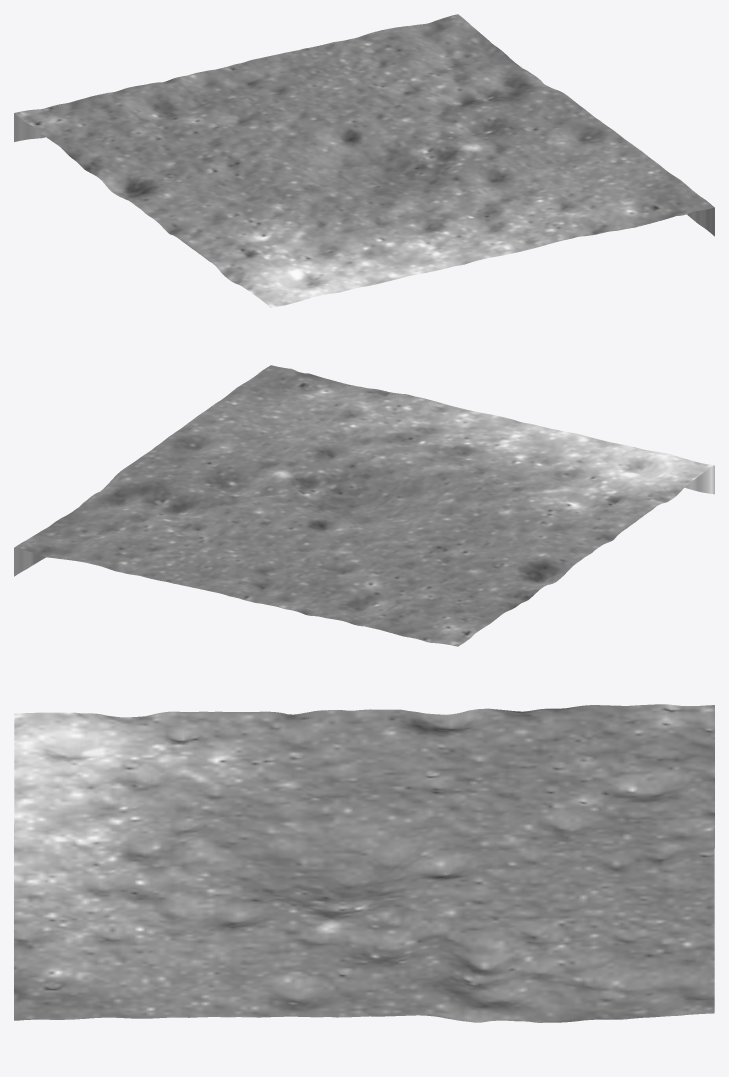
The picture shows the model from 3 angles, top to bottom: view 1: azimuth 30°, elevation 25°; view 2: azimuth 150°, elevation 25°; view 3: azimuth 270°, elevation 25°; orthographic projection. The views are drawn at different scales.
Size of the model in its own units: 1277 by 127 by 1279.
1 material, 1 textured.
